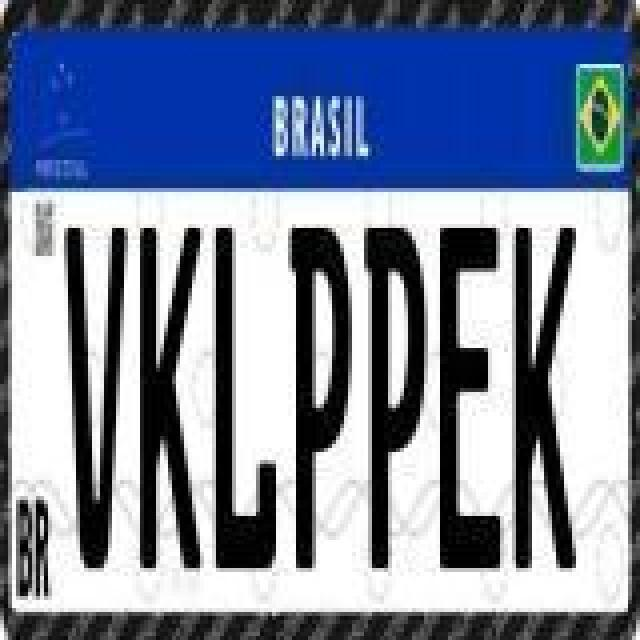E: (440, 220, 504, 572)
K: (512, 224, 576, 576), (140, 226, 204, 574)
L: (216, 226, 280, 574)
P: (288, 226, 352, 574), (364, 226, 428, 574)
V: (64, 224, 128, 576)
